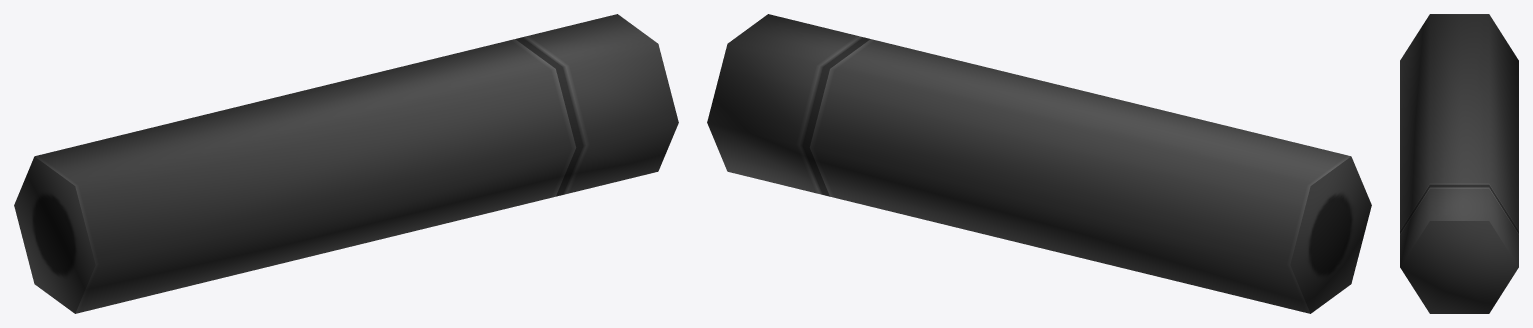
File: Muzzles_Suppressor_Base_2_Mod.FBX
The picture shows the model from 3 angles, left to right: view 1: azimuth 30°, elevation 25°; view 2: azimuth 150°, elevation 25°; view 3: azimuth 270°, elevation 25°; orthographic projection. The views are drawn at different scales.
Parts seen in each view (by area): view 1: Muzzles_Suppressor_Base_2_Mod; view 2: Muzzles_Suppressor_Base_2_Mod; view 3: Muzzles_Suppressor_Base_2_Mod.
Boxes of the visible parts, bbox=[...] form: Muzzles_Suppressor_Base_2_Mod: bbox=[14, 14, 678, 313]; Muzzles_Suppressor_Base_2_Mod: bbox=[707, 14, 1371, 313]; Muzzles_Suppressor_Base_2_Mod: bbox=[1400, 14, 1518, 313].
Size of the model in its own units: 28.65 by 6 by 6.94.
